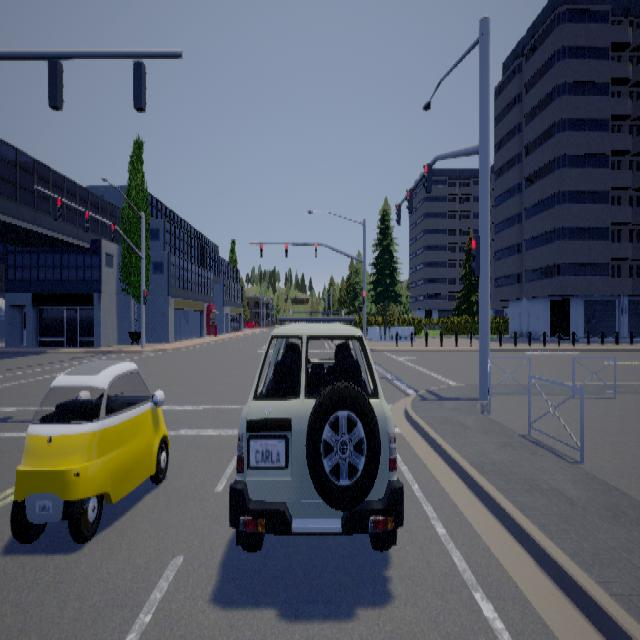red_light: (468, 234, 479, 276), (422, 162, 431, 192), (53, 195, 61, 219), (405, 187, 412, 212), (81, 209, 88, 231), (394, 202, 400, 225), (108, 222, 114, 241), (142, 288, 146, 303), (285, 242, 288, 257), (362, 290, 365, 304), (260, 242, 263, 256), (315, 243, 317, 256)
vehicle: (228, 308, 403, 551), (9, 359, 169, 542)
